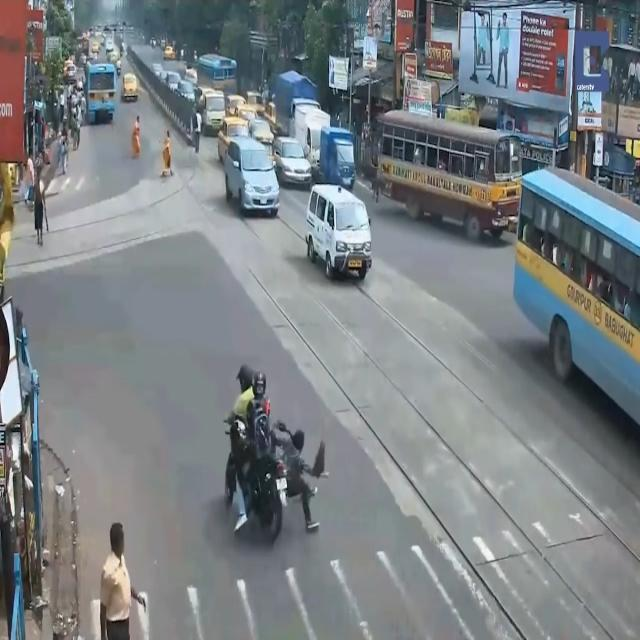accident: (219, 363, 336, 561)
